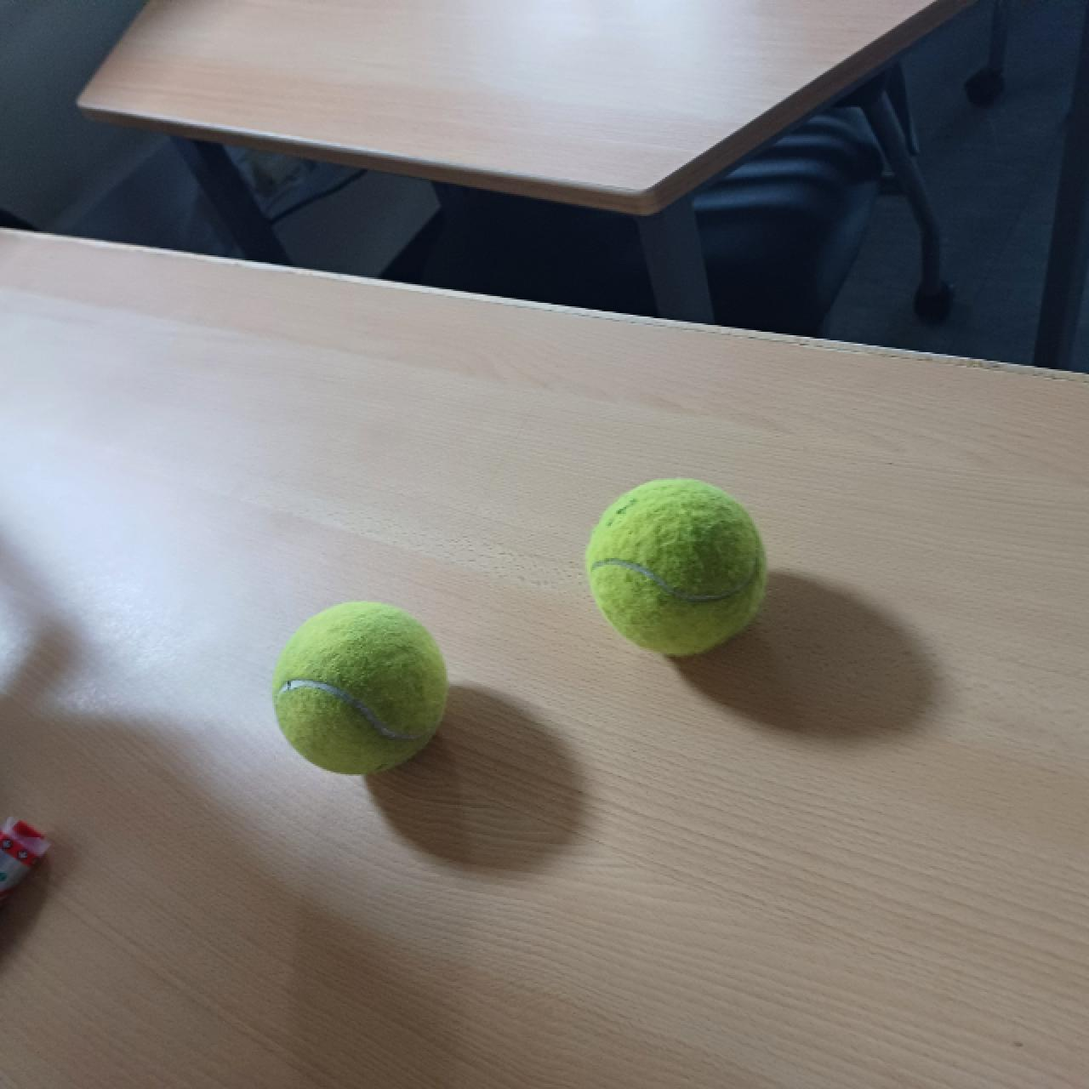tennis-ball: (585, 473, 767, 657), (274, 597, 450, 775)
